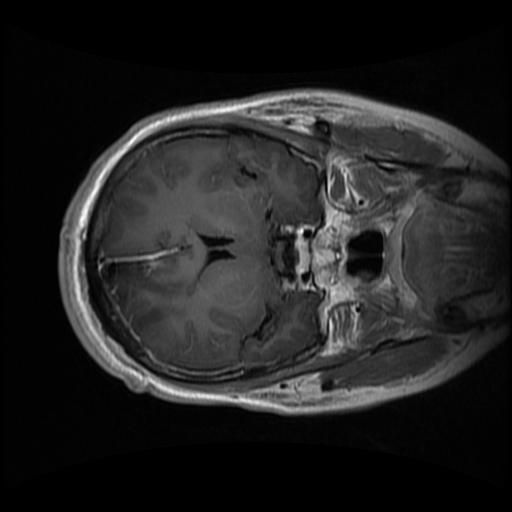glioma: (98, 255, 172, 304)
